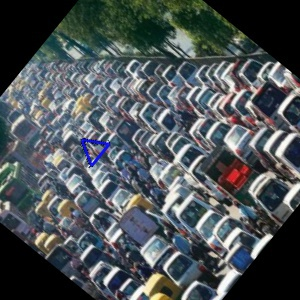triangle: (79, 134, 112, 168)
